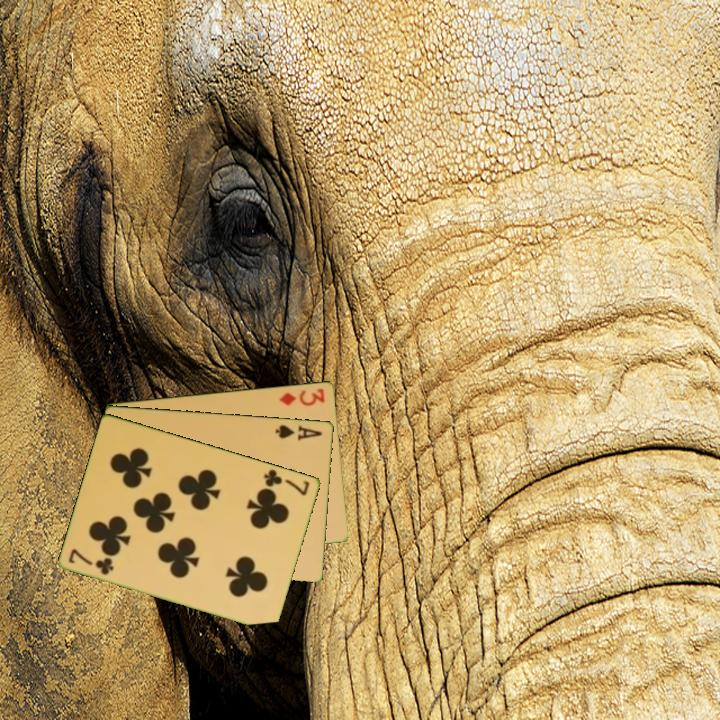3d: (276, 385, 328, 408)
7c: (261, 465, 313, 498), (65, 545, 117, 578)
As: (272, 421, 325, 443)
